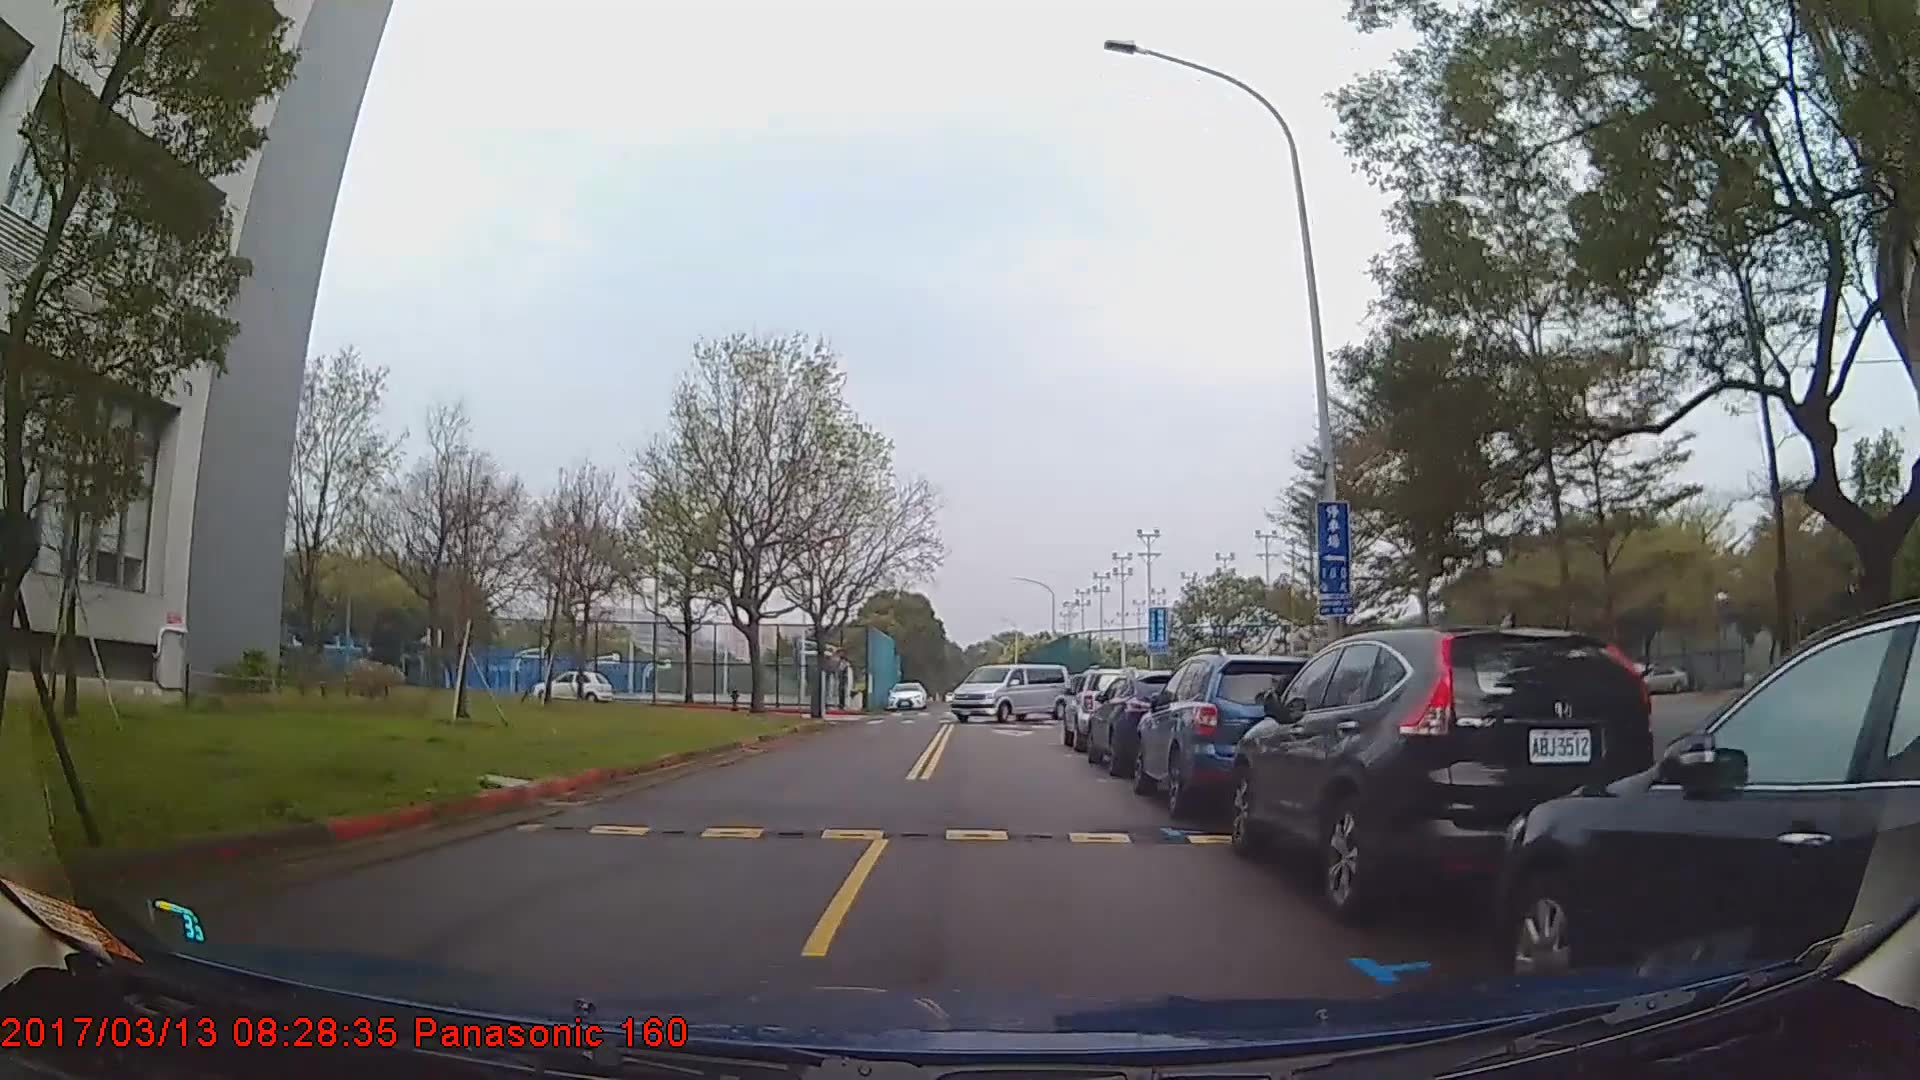vehicle: (1495, 596, 1920, 1023), (1228, 622, 1660, 924), (1129, 651, 1328, 818), (1085, 669, 1208, 775), (951, 662, 1072, 723), (531, 667, 612, 705), (885, 680, 928, 711)
